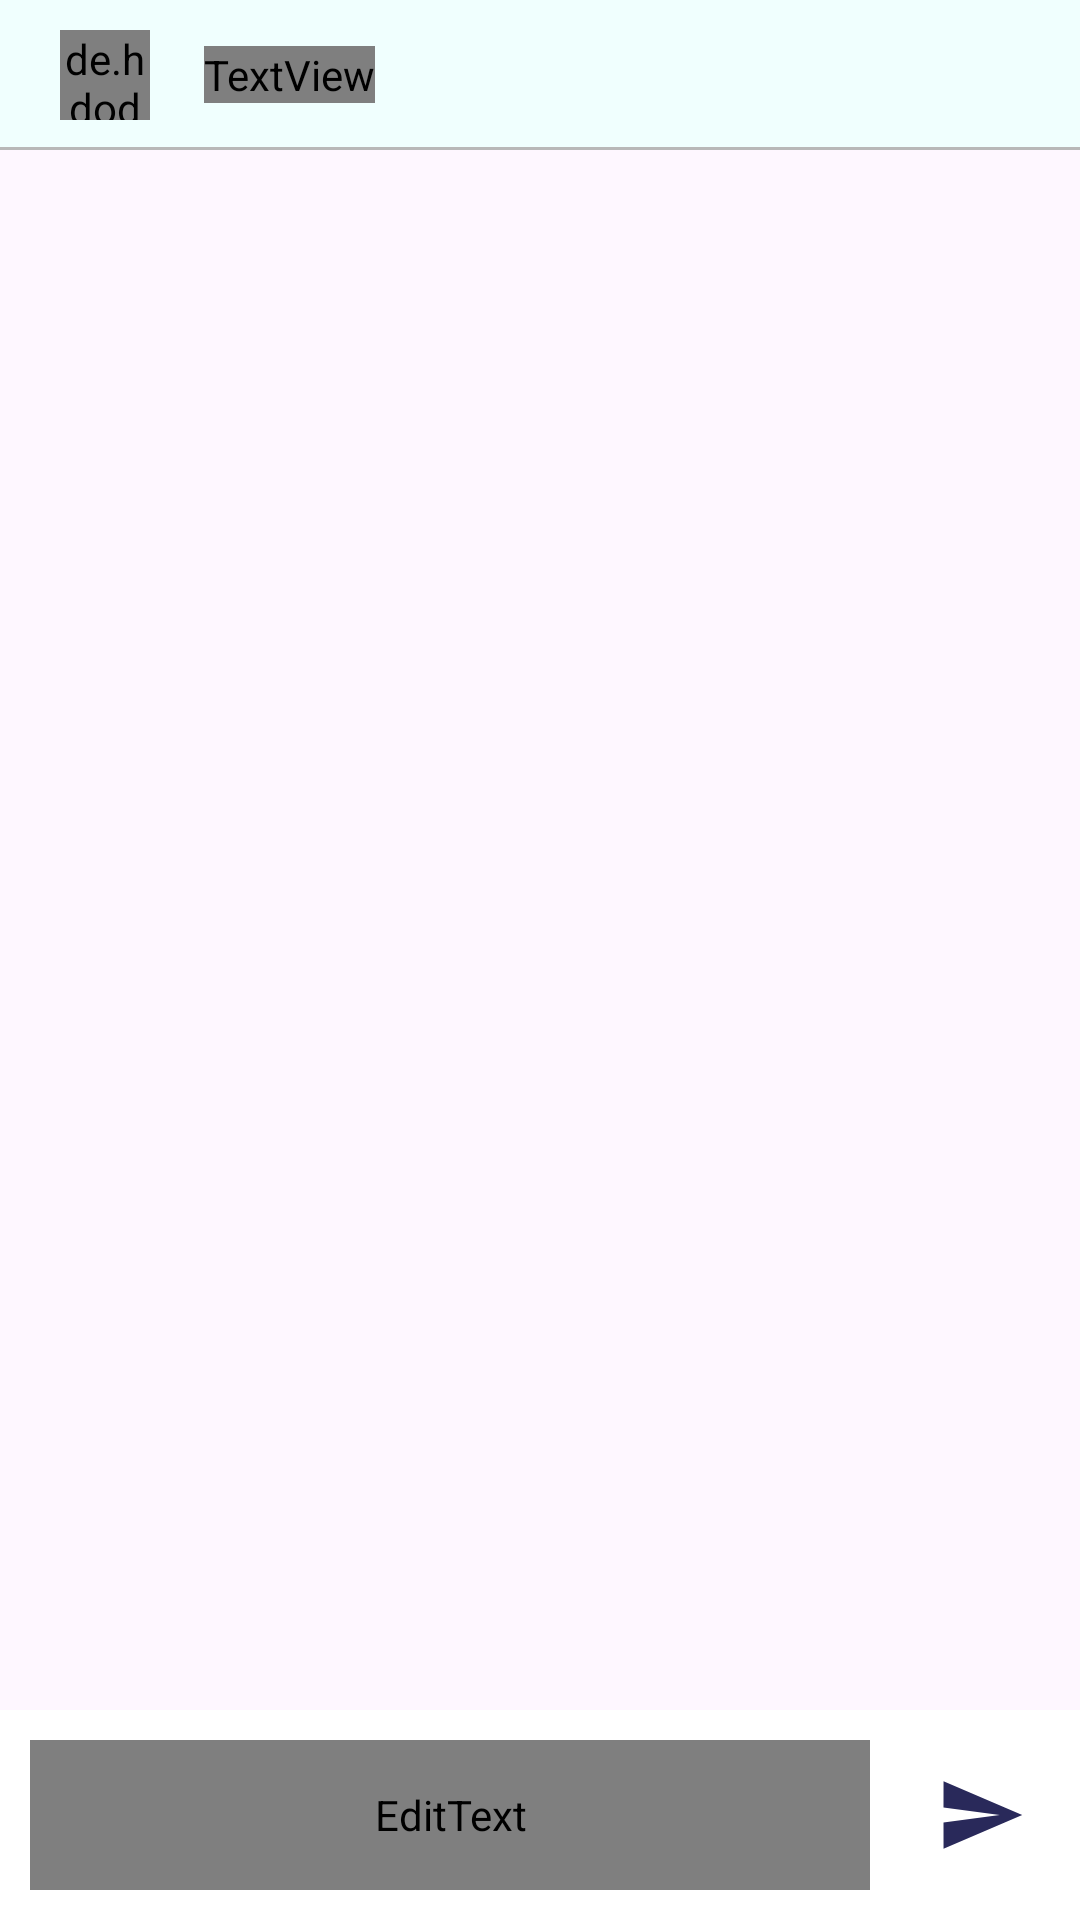

Locate icon controls on the screen. Image size 1080px x 1920px, boxes as (x1,y1,x2,y2).
send: (943,1781,1022,1849)
